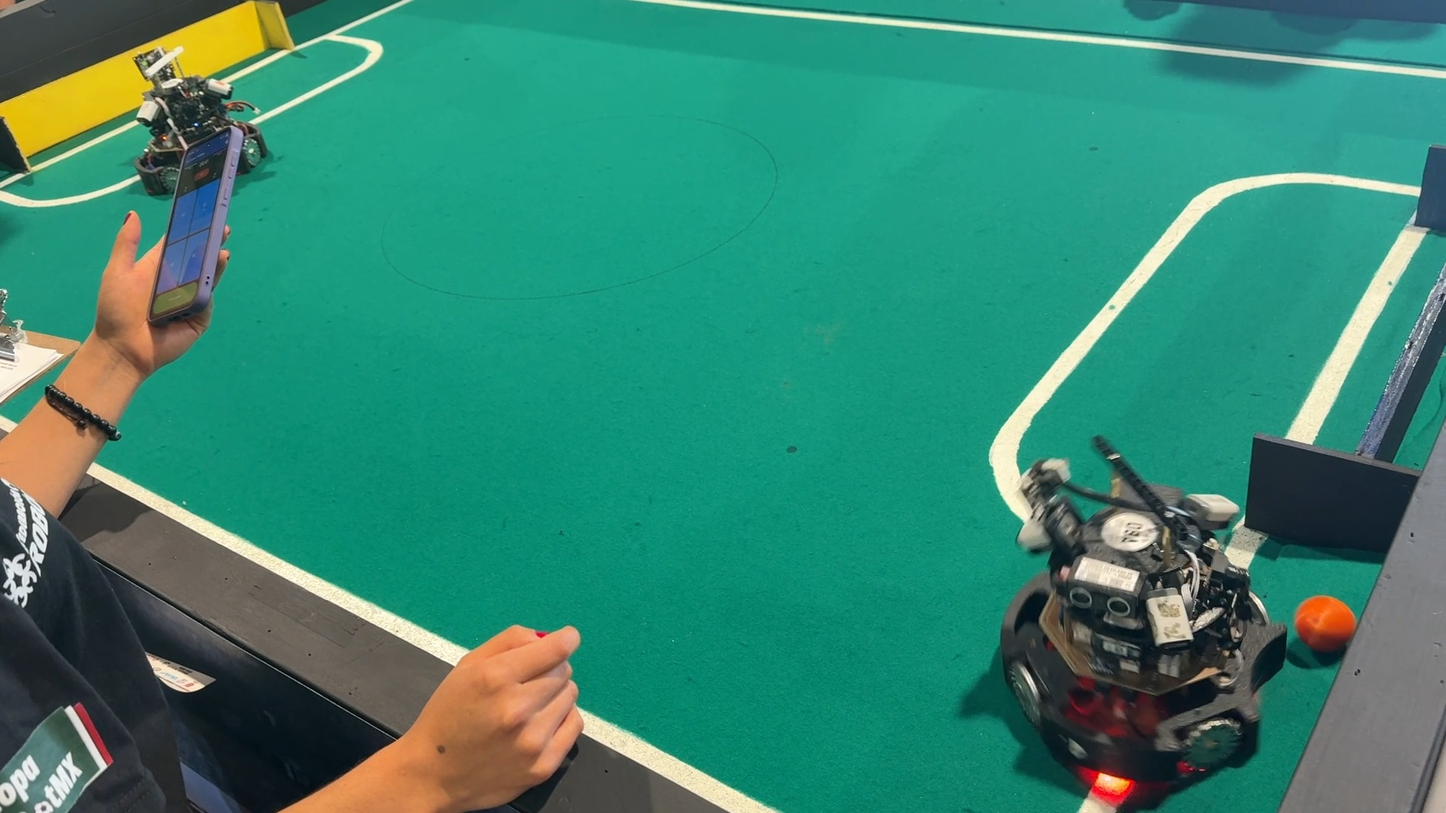Robot: (992, 447, 1271, 772), (107, 28, 298, 204)
pelota: (1290, 592, 1354, 660)
